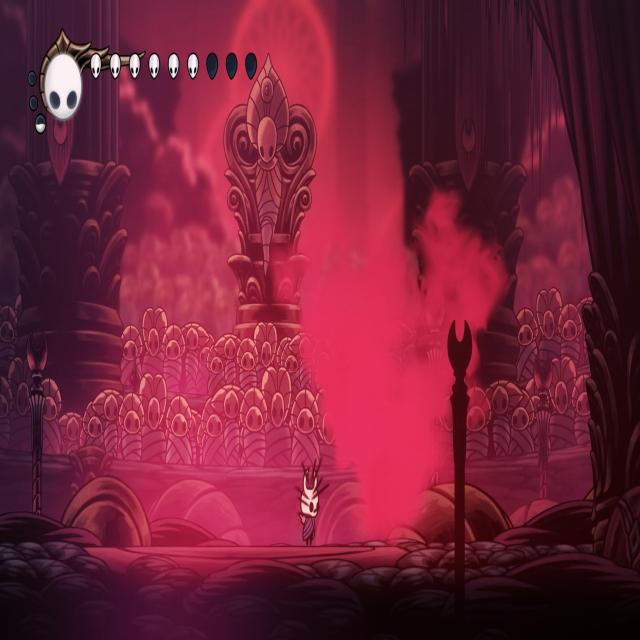Player: (294, 454, 322, 546)
